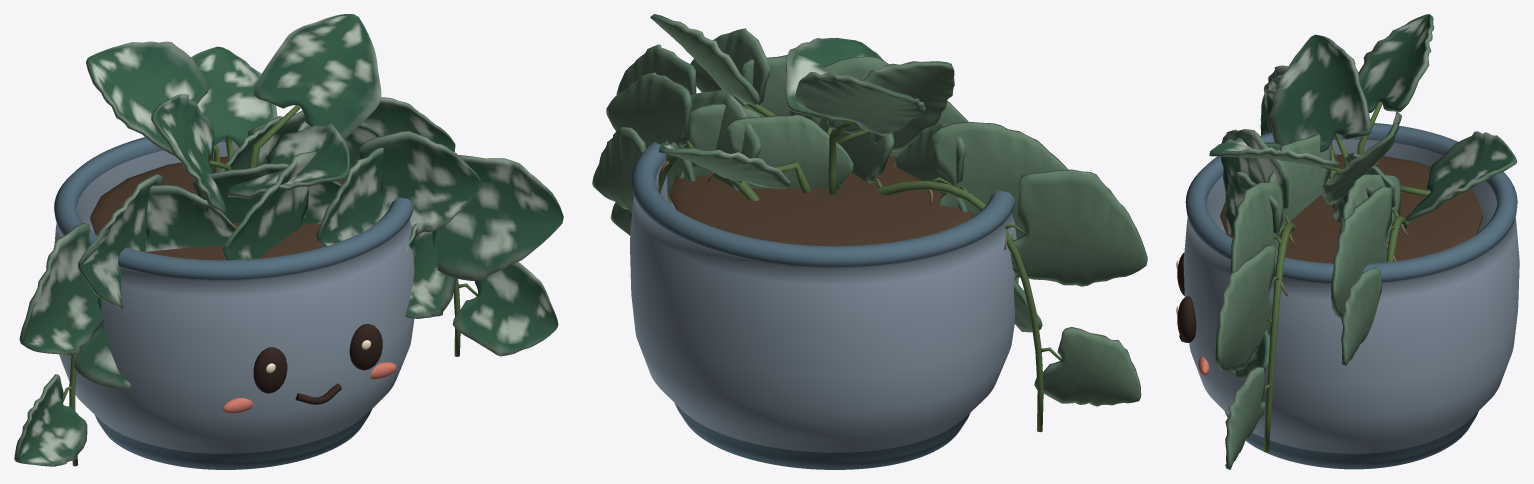
The model's file is satin-pothos-v1.glb.
3 views of the same model, side by side, from view 1: azimuth 30°, elevation 25°; view 2: azimuth 150°, elevation 25°; view 3: azimuth 270°, elevation 25° (orthographic). The views are drawn at different scales.
Visible parts, largest first — view 1: Foliage draw mesh, Wheel-thrown ceramic, Soil, Eye, Eye.001; view 2: Wheel-thrown ceramic, Foliage draw mesh, Soil; view 3: Wheel-thrown ceramic, Foliage draw mesh, Soil, Eye.001.
Part boxes in pixels (x1=…): Foliage draw mesh: x1=14, y1=14, x2=563, y2=466; Wheel-thrown ceramic: x1=54, y1=137, x2=414, y2=469; Soil: x1=90, y1=156, x2=345, y2=260; Eye: x1=253, y1=347, x2=287, y2=393; Eye.001: x1=349, y1=324, x2=382, y2=370; Wheel-thrown ceramic: x1=630, y1=142, x2=1018, y2=469; Foliage draw mesh: x1=592, y1=14, x2=1147, y2=432; Soil: x1=669, y1=156, x2=973, y2=246; Wheel-thrown ceramic: x1=1183, y1=123, x2=1519, y2=469; Foliage draw mesh: x1=1209, y1=14, x2=1517, y2=469; Soil: x1=1220, y1=154, x2=1482, y2=263; Eye.001: x1=1177, y1=296, x2=1196, y2=342.
Bounding box in the file's own units: 2.62 × 1.75 × 1.53.
